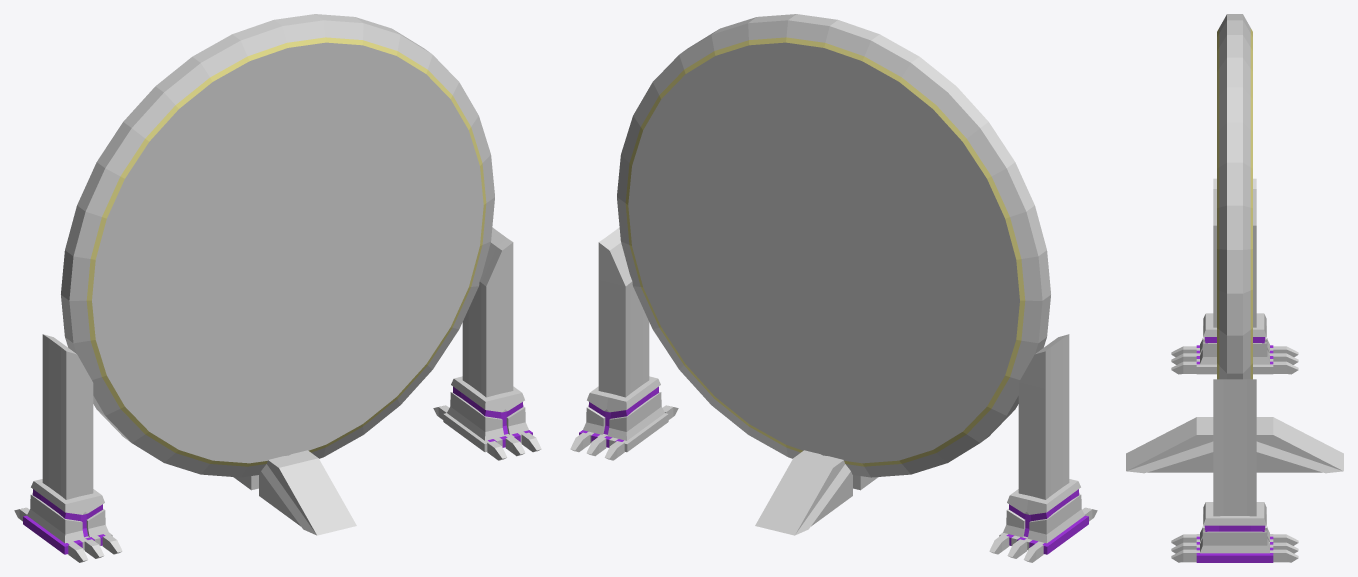
The model's file is Tower3.glb.
The picture shows the model from 3 angles, left to right: view 1: azimuth 30°, elevation 25°; view 2: azimuth 150°, elevation 25°; view 3: azimuth 270°, elevation 25°; orthographic projection. The views are drawn at different scales.
Parts seen in each view (by area): view 1: Screen, Cube, Cube.002; view 2: Screen, Cube, Cube.002; view 3: Cube, Cube.002.
Part boxes in pixels (box(x1,y1,x2,y2)): Screen: box(97, 48, 477, 457); Cube: box(14, 14, 541, 562); Cube.002: box(233, 450, 356, 535); Screen: box(634, 48, 1014, 457); Cube: box(570, 14, 1097, 562); Cube.002: box(755, 450, 878, 535); Cube: box(1171, 14, 1298, 562); Cube.002: box(1126, 417, 1343, 473).
Bounding box in the file's own units: 7.71 × 7.31 × 3.37.
